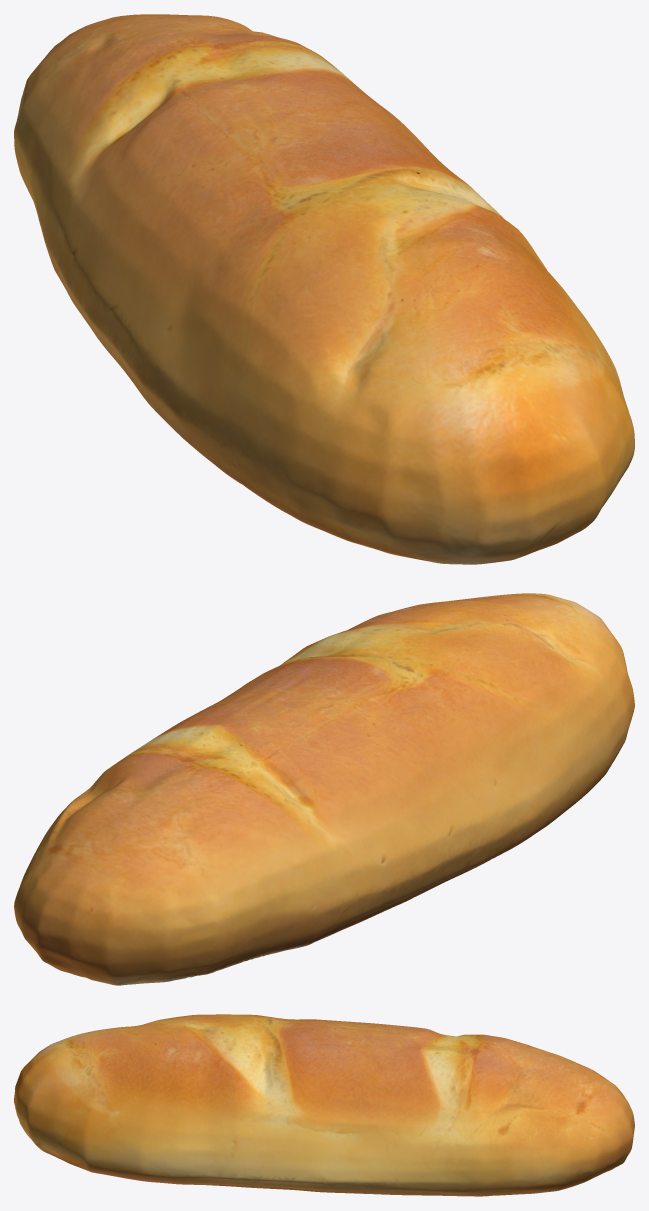
Rendered from Baguette_0916101323.fbx.
The picture shows the model from 3 angles, top to bottom: view 1: azimuth 30°, elevation 25°; view 2: azimuth 150°, elevation 25°; view 3: azimuth 270°, elevation 25°; orthographic projection. The views are drawn at different scales.
Parts seen in each view (by area): view 1: Mesh_0; view 2: Mesh_0; view 3: Mesh_0.
Boxes of the visible parts, x1,y1,x2,y2 form: Mesh_0: (14, 14, 634, 564); Mesh_0: (14, 593, 634, 985); Mesh_0: (14, 1014, 634, 1196).
Size of the model in its own units: 83.12 by 43.85 by 200.
Materials: 1 (1 with a texture image).
